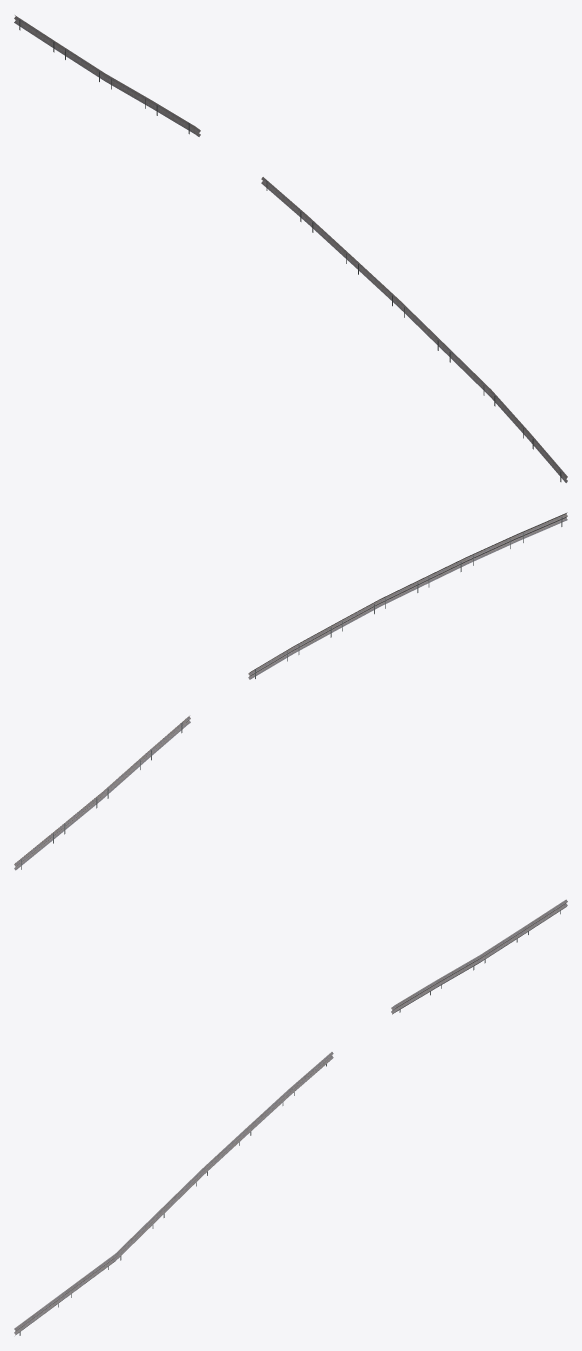
The model's file is dockbarrier2_sfse.obj.
3 renders of one model, top to bottom at view 1: azimuth 30°, elevation 25°; view 2: azimuth 150°, elevation 25°; view 3: azimuth 330°, elevation 25°, orthographic. The views are drawn at different scales.
Visible parts, largest first — view 1: dockbarrier2_SFSe; view 2: dockbarrier2_SFSe; view 3: dockbarrier2_SFSe.
Part boxes in pixels (x1,y1,x2,y2): dockbarrier2_SFSe: (14,15,567,482); dockbarrier2_SFSe: (14,512,567,870); dockbarrier2_SFSe: (14,899,567,1335).
Size of the model in its own units: 2.04 by 8.37 by 116.
2 materials, 2 textured.
